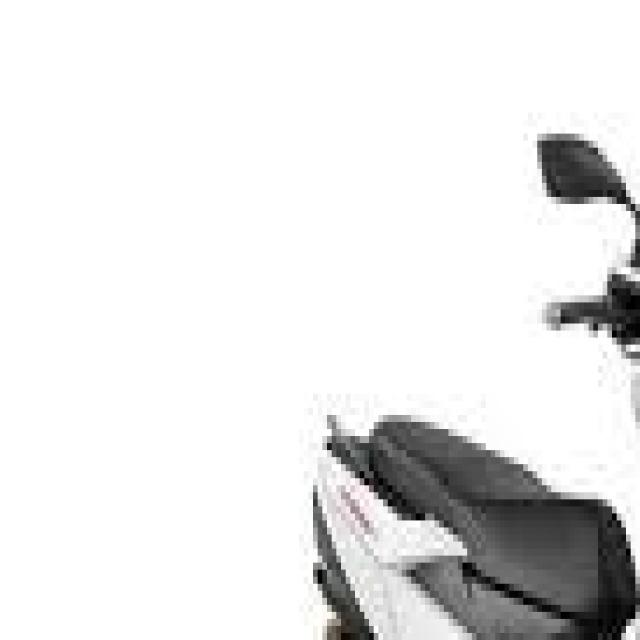bike: (271, 126, 640, 640)
